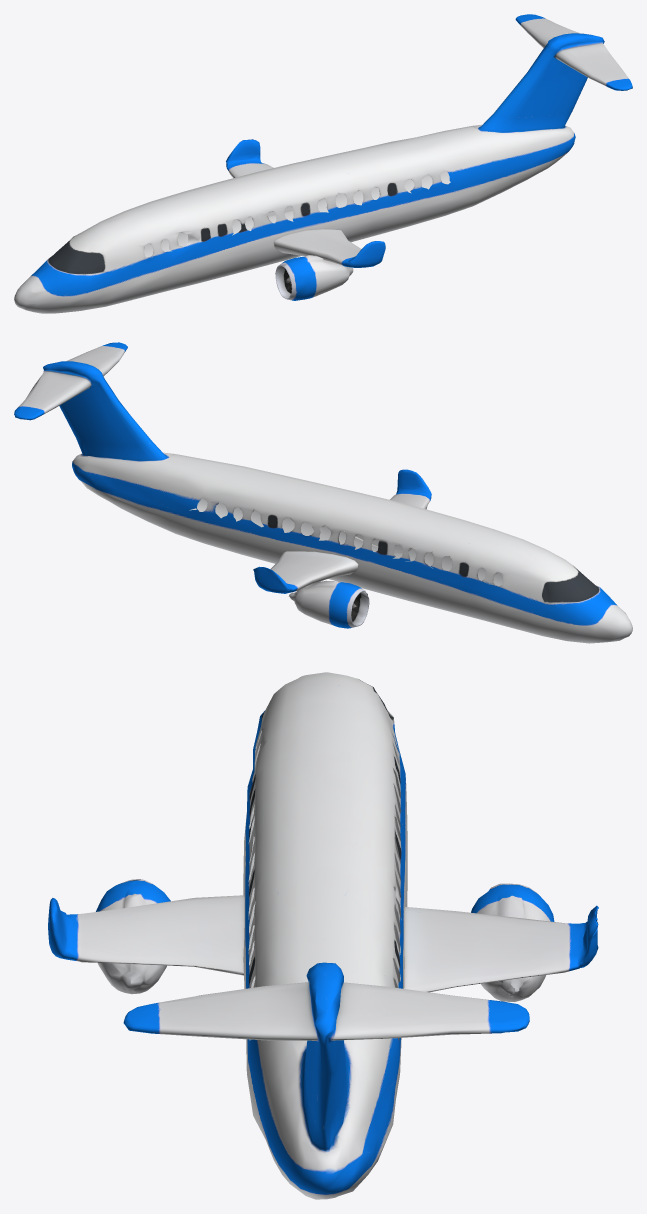
Rendered from 24_airplane_textured.glb.
3 renders of one model, top to bottom at view 1: azimuth 30°, elevation 25°; view 2: azimuth 150°, elevation 25°; view 3: azimuth 270°, elevation 25°, orthographic. The views are drawn at different scales.
Parts seen in each view (by area): view 1: geometry_0; view 2: geometry_0; view 3: geometry_0.
Part boxes in pixels (x1,y1,x2,y2): geometry_0: (14,14,632,313); geometry_0: (14,342,632,643); geometry_0: (48,672,598,1199).
Bounding box in the file's own units: 0.957 × 0.2378 × 0.3882.
Materials: 1 (1 with a texture image).
